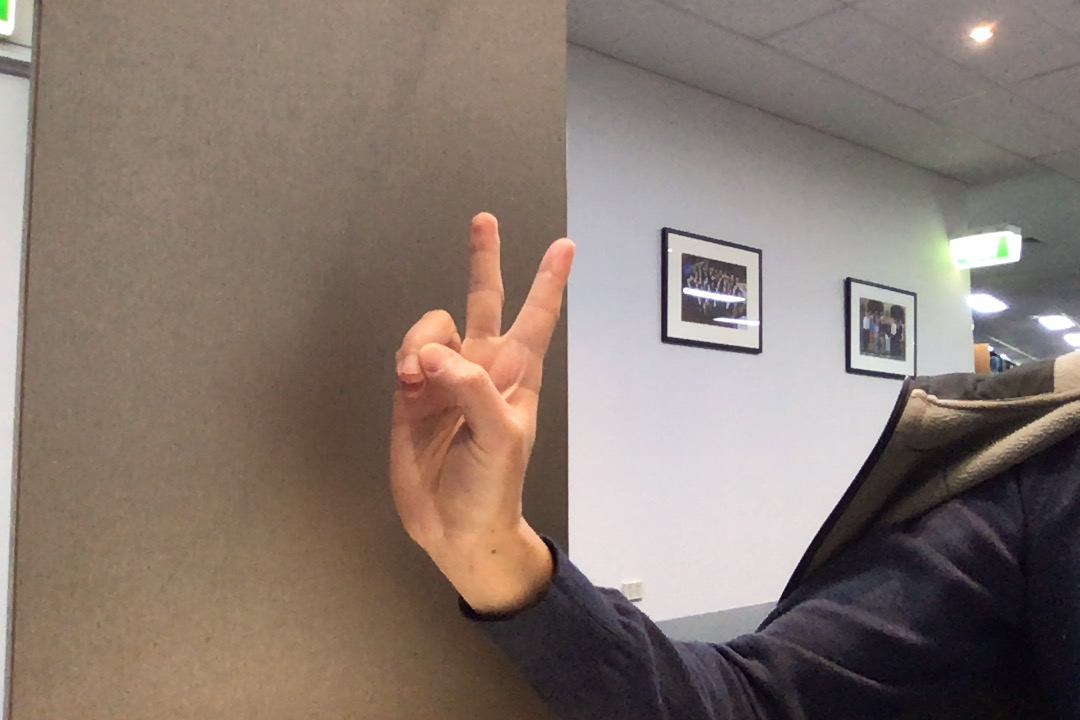peacesign: (367, 187, 583, 563)
